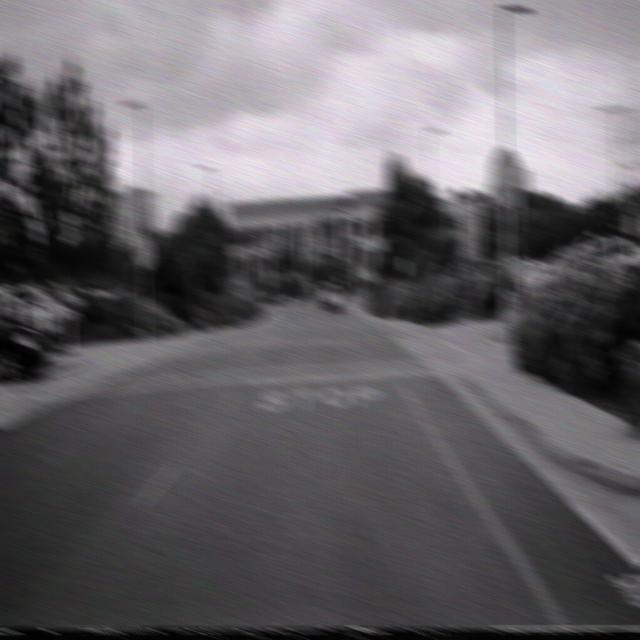stop_sign: (488, 144, 523, 205)
